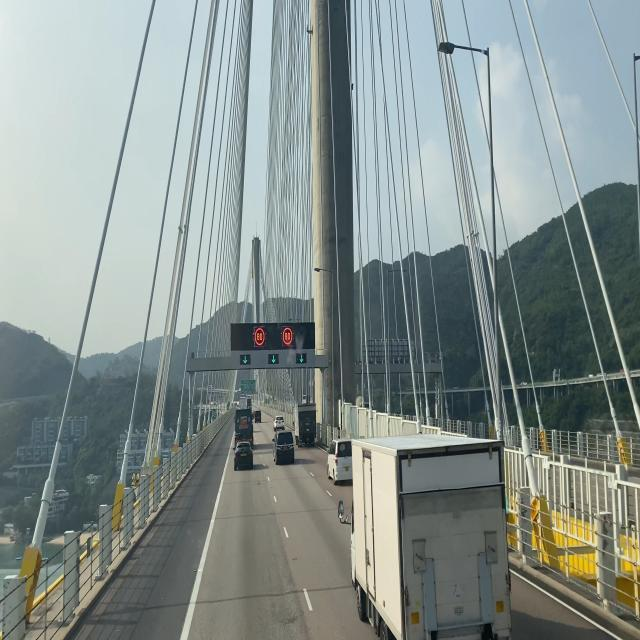Car: (347, 435, 515, 640), (292, 403, 320, 449), (329, 435, 354, 485), (271, 428, 297, 465), (231, 437, 256, 472)
